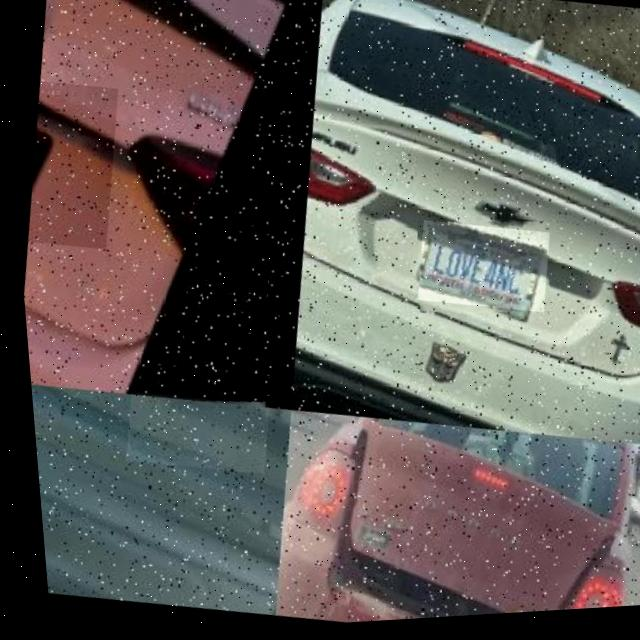LicensePlate: (14, 78, 127, 254), (114, 387, 267, 483), (414, 227, 543, 318)
